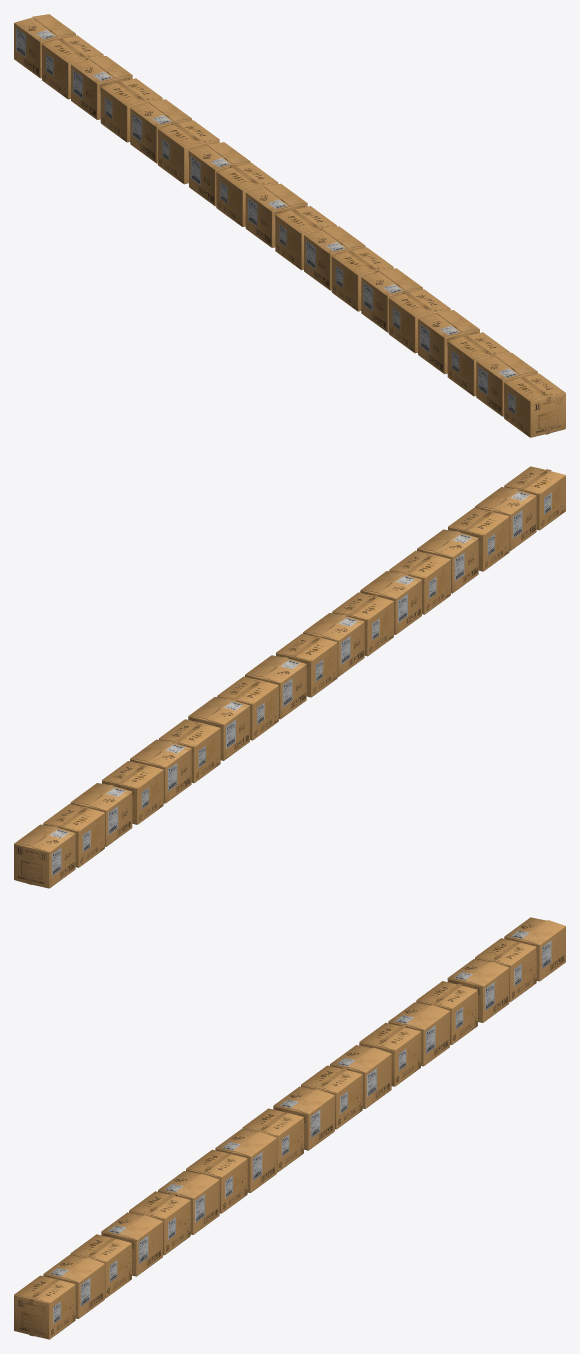
Rendered from randombox2.obj.
3 views of the same model, one above another, from view 1: azimuth 30°, elevation 25°; view 2: azimuth 150°, elevation 25°; view 3: azimuth 330°, elevation 25° (orthographic).
Parts seen in each view (by area): view 1: Object_10.007, Object_9.005, Object_9, Object_9.006, Object_10.001, Object_9.002, Object_9.004, Object_9.007, Object_10, Object_10.004, Object_9.001, Object_9.008 (+6 smaller); view 2: Object_9.002, Object_9.003, Object_10.006, Object_10.005, Object_10, Object_9.001, Object_9.008, Object_9.006, Object_9.005, Object_9, Object_9.004, Object_9.007 (+6 smaller); view 3: Object_10.007, Object_9, Object_9.005, Object_9.006, Object_9.002, Object_9.004, Object_9.007, Object_9.008, Object_9.003, Object_9.001, Object_10.001, Object_10.004 (+6 smaller).
Part boxes in pixels (left/top/right/bottom): Object_10.007: left=504, top=373, right=565, bottom=437; Object_9.005: left=245, top=183, right=307, bottom=247; Object_9: left=71, top=56, right=132, bottom=119; Object_9.006: left=418, top=310, right=479, bottom=374; Object_10.001: left=157, top=120, right=219, bottom=184; Object_9.002: left=14, top=14, right=75, bottom=78; Object_9.004: left=304, top=226, right=365, bottom=290; Object_9.007: left=476, top=352, right=537, bottom=416; Object_10: left=100, top=78, right=162, bottom=142; Object_10.004: left=331, top=247, right=393, bottom=311; Object_9.001: left=130, top=99, right=191, bottom=163; Object_9.008: left=361, top=268, right=422, bottom=332; Object_9.002: left=14, top=824, right=75, bottom=888; Object_9.003: left=188, top=697, right=249, bottom=760; Object_10.006: left=448, top=507, right=509, bottom=571; Object_10.005: left=276, top=633, right=337, bottom=697; Object_10: left=102, top=761, right=163, bottom=824; Object_9.001: left=130, top=739, right=191, bottom=803; Object_9.008: left=360, top=571, right=421, bottom=634; Object_9.006: left=417, top=529, right=478, bottom=593; Object_9.005: left=245, top=655, right=306, bottom=719; Object_9: left=70, top=783, right=132, bottom=846; Object_9.004: left=303, top=613, right=364, bottom=676; Object_9.007: left=475, top=487, right=536, bottom=550; Object_10.007: left=14, top=1275, right=75, bottom=1339; Object_9: left=447, top=959, right=509, bottom=1022; Object_9.005: left=273, top=1086, right=334, bottom=1150; Object_9.006: left=101, top=1212, right=162, bottom=1276; Object_9.002: left=504, top=917, right=565, bottom=981; Object_9.004: left=215, top=1129, right=276, bottom=1192; Object_9.007: left=43, top=1255, right=104, bottom=1318; Object_9.008: left=158, top=1171, right=219, bottom=1234; Object_9.003: left=330, top=1045, right=391, bottom=1108; Object_9.001: left=388, top=1002, right=449, bottom=1066; Object_10.001: left=359, top=1022, right=420, bottom=1086; Object_10.004: left=186, top=1149, right=247, bottom=1213.
Bounding box in the file's own units: 0.4242 × 0.4327 × 10.43.
Materials: 27 (27 with a texture image).
